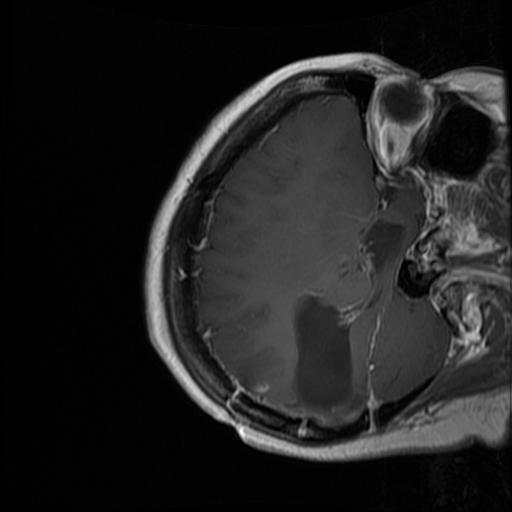glioma: (291, 216, 403, 412)
